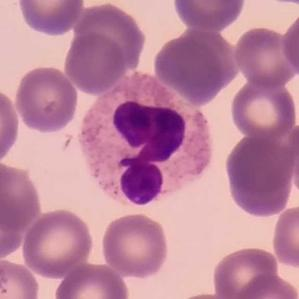Neutrophil: (75, 68, 217, 208)
RBC: (222, 131, 297, 218), (151, 29, 237, 103), (72, 2, 148, 76), (20, 206, 96, 278), (99, 211, 171, 279), (13, 64, 80, 134), (228, 76, 299, 140), (231, 25, 298, 90), (62, 30, 127, 95), (211, 244, 280, 299), (0, 159, 44, 232), (52, 260, 132, 299), (15, 0, 85, 37), (170, 0, 248, 32), (269, 202, 299, 270), (0, 191, 26, 263), (0, 256, 42, 299), (0, 86, 22, 168), (233, 272, 299, 299), (280, 8, 299, 80), (284, 119, 299, 202)
